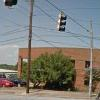Traffic light: (53, 5, 68, 41)
